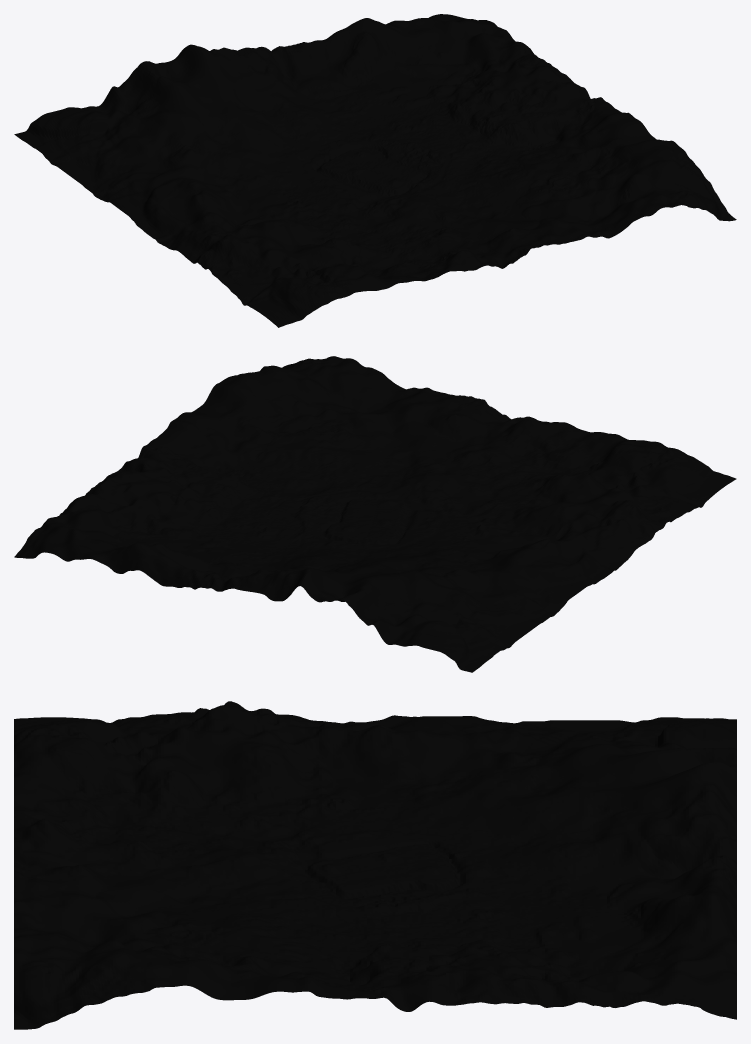
File: Terrain (4).fbx
3 views of the same model, one above another, from view 1: azimuth 30°, elevation 25°; view 2: azimuth 150°, elevation 25°; view 3: azimuth 270°, elevation 25° (orthographic). The views are drawn at different scales.
Parts seen in each view (by area): view 1: Terrain (1); view 2: Terrain (1); view 3: Terrain (1).
Part boxes in pixels (x1=…): Terrain (1): x1=14, y1=14, x2=736, y2=327; Terrain (1): x1=14, y1=356, x2=736, y2=672; Terrain (1): x1=14, y1=701, x2=736, y2=1029.
Size of the model in its own units: 3000 by 353 by 3000.
Materials: 1 (1 with a texture image).
